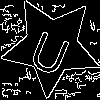U: (26, 21, 76, 78)
